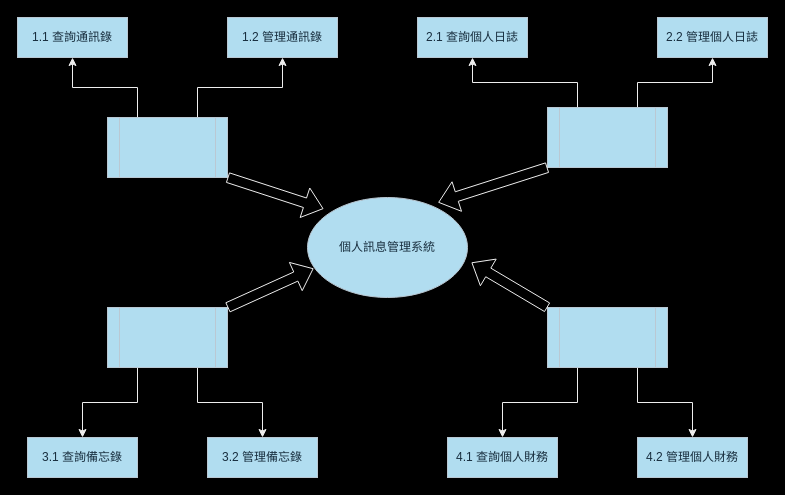
Some shapes in this 785 by 495 pixel diagram are drawn without their labels. The shapes that lost their labels are listed below. From the top down, each one's centre as x and y in pixels, then its label:
At (x=167, y=147): "通訊錄".
At (x=607, y=137): "個人日誌".
At (x=167, y=337): "備忘錄".
At (x=607, y=337): "個人財務".
